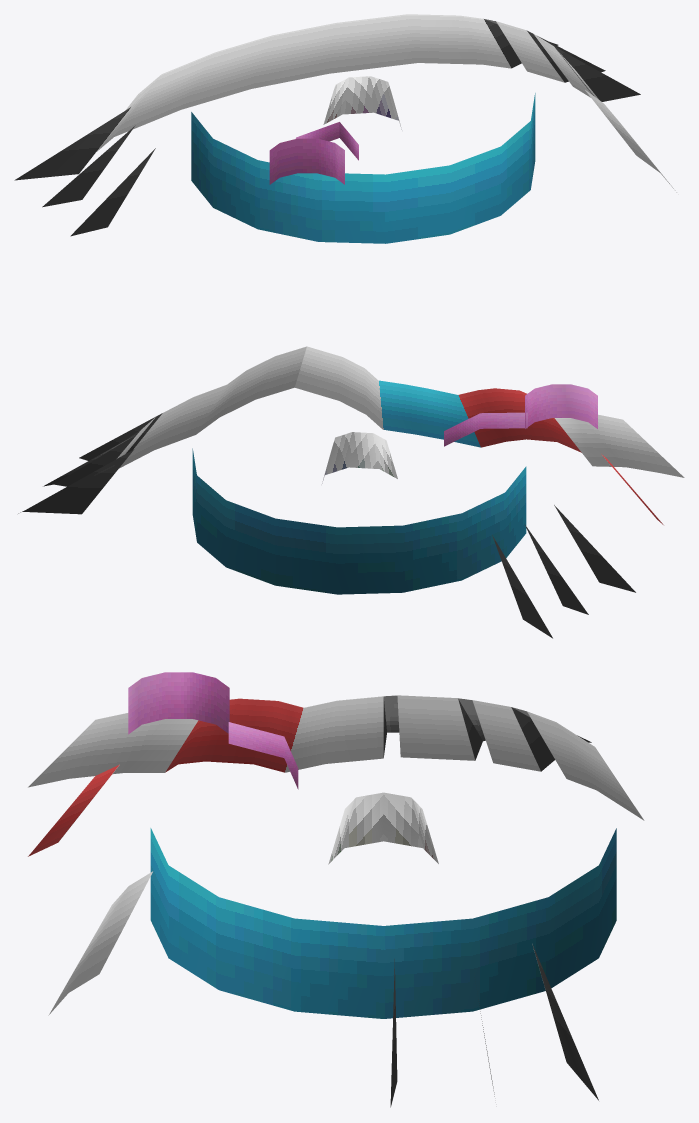
File: ps2_save-icons_simple2000serieshellokittyvol2minnadesugorokufushiginasekainonakayoshisugoroku.glb
The picture shows the model from 3 angles, top to bottom: view 1: azimuth 30°, elevation 25°; view 2: azimuth 150°, elevation 25°; view 3: azimuth 270°, elevation 25°; orthographic projection. The views are drawn at different scales.
Parts seen in each view (by area): view 1: sicon.ico; view 2: sicon.ico; view 3: sicon.ico.
Boxes of the visible parts, x1=… form: sicon.ico: x1=14, y1=14, x2=676, y2=243; sicon.ico: x1=18, y1=346, x2=684, y2=638; sicon.ico: x1=28, y1=672, x2=644, y2=1107.
Bounding box in the file's own units: 4.94 × 0.8604 × 3.72.
1 material, 1 textured.
